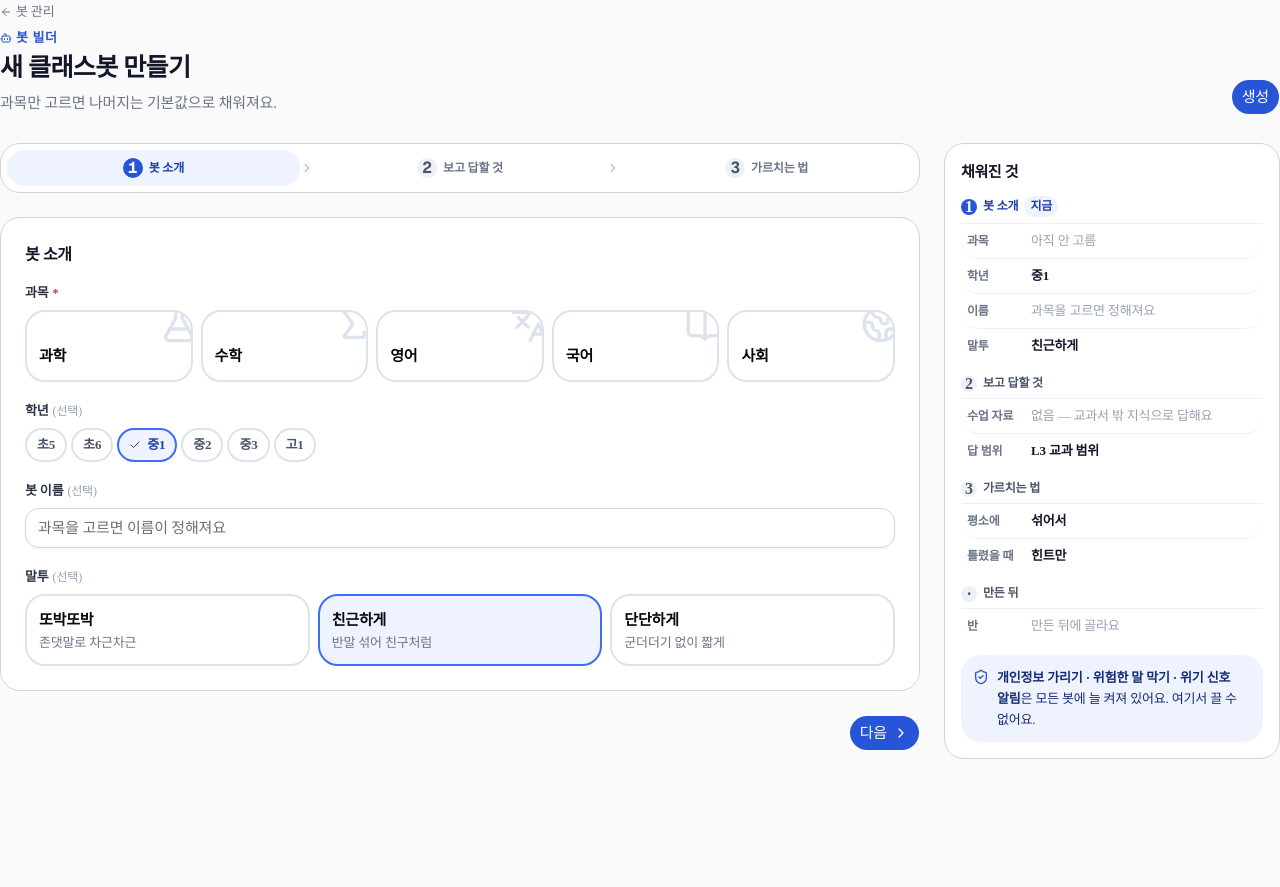
it: 필수를 안 채우면 다음 마당으로 못 간다 › 막힌 뒤 그 항목을 채우면 오류가 사라지고 넘어간다
Click the button "다음". click: (884, 733)
box: [849, 715, 920, 751]
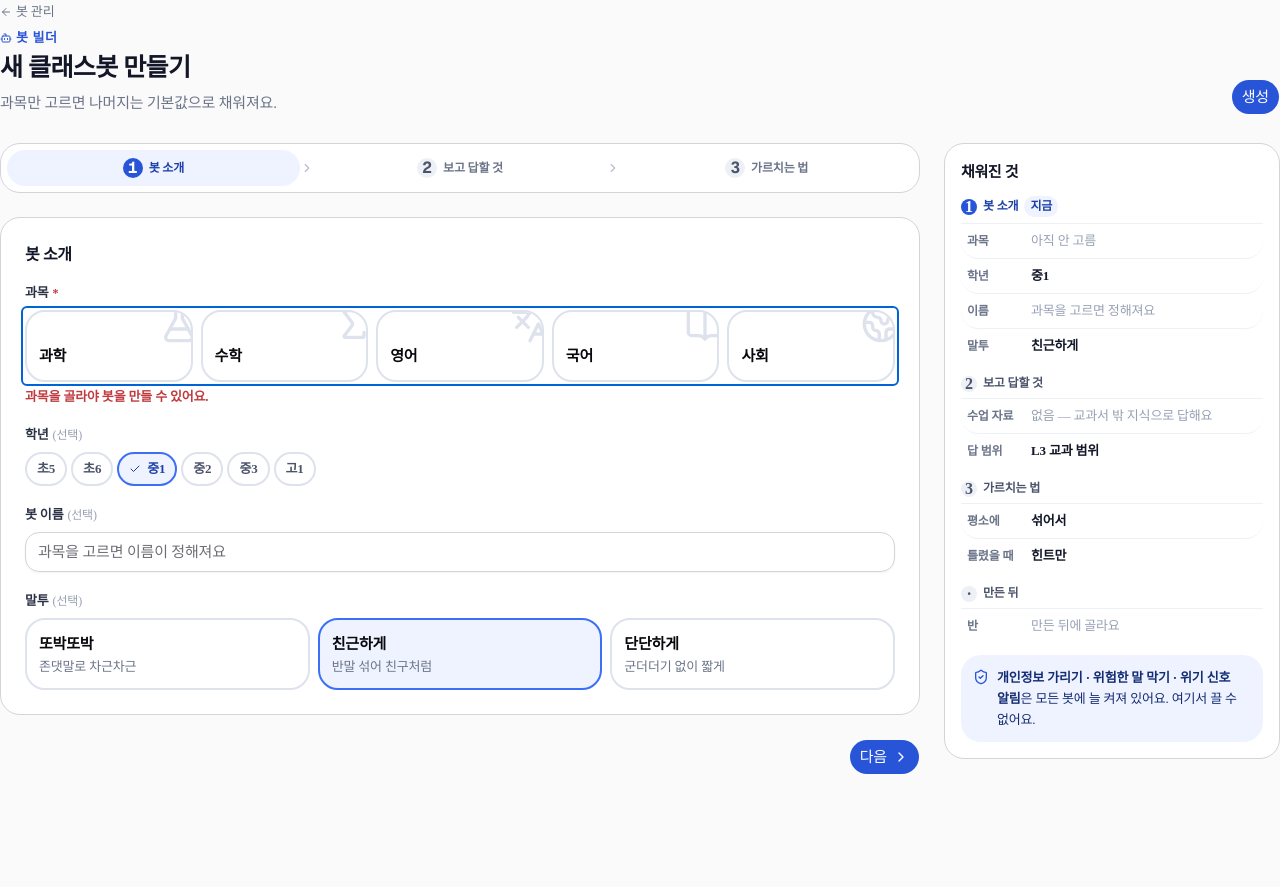
Expected: the message "과목을 골라야 봇을 만들 수 있어요." is shown, [25, 389, 208, 404]
Click the radio button labelled "과학". click: (109, 346)
box: [25, 310, 193, 382]
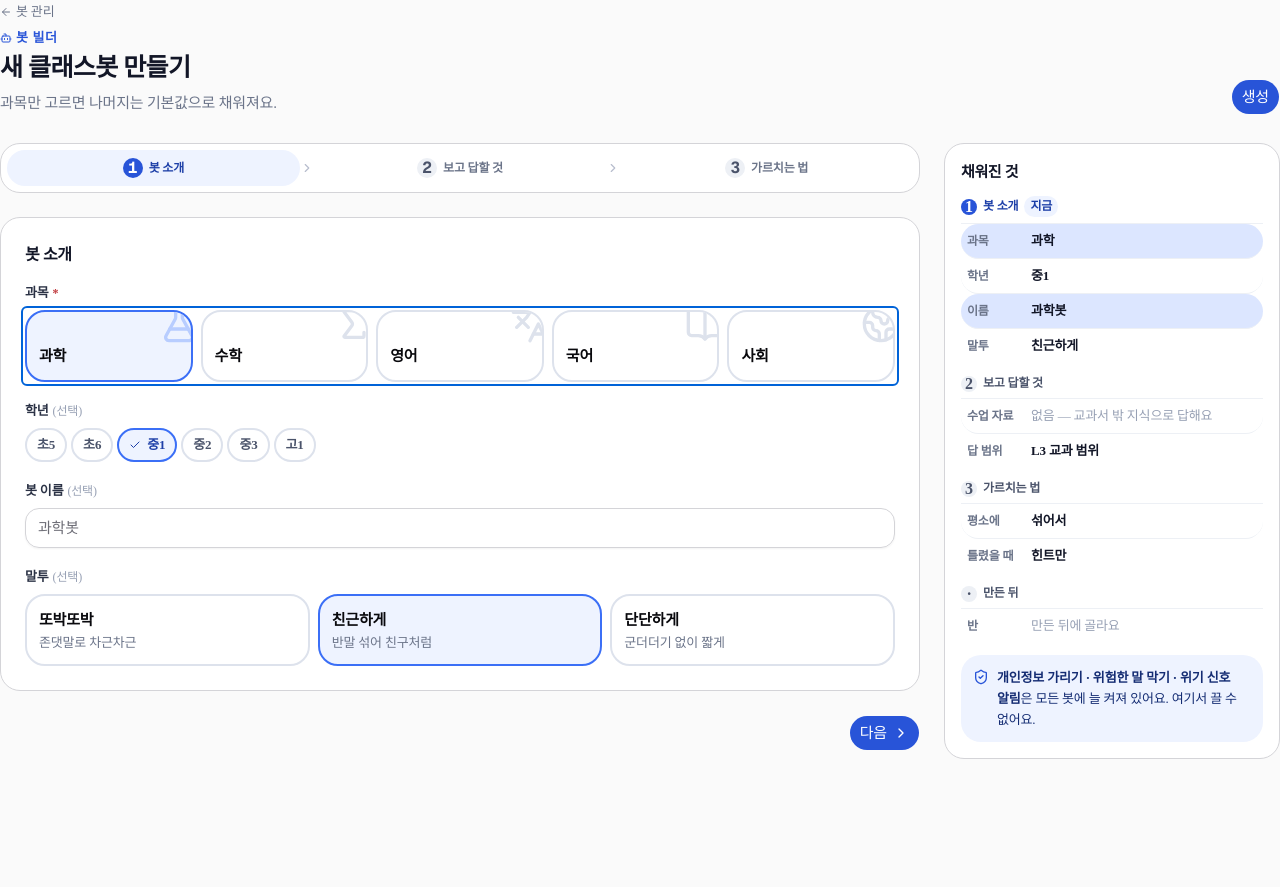
Expected: the message "과목을 골라야 봇을 만들 수 있어요." is gone
Click the button "다음". click: (884, 733)
box: [849, 715, 920, 751]
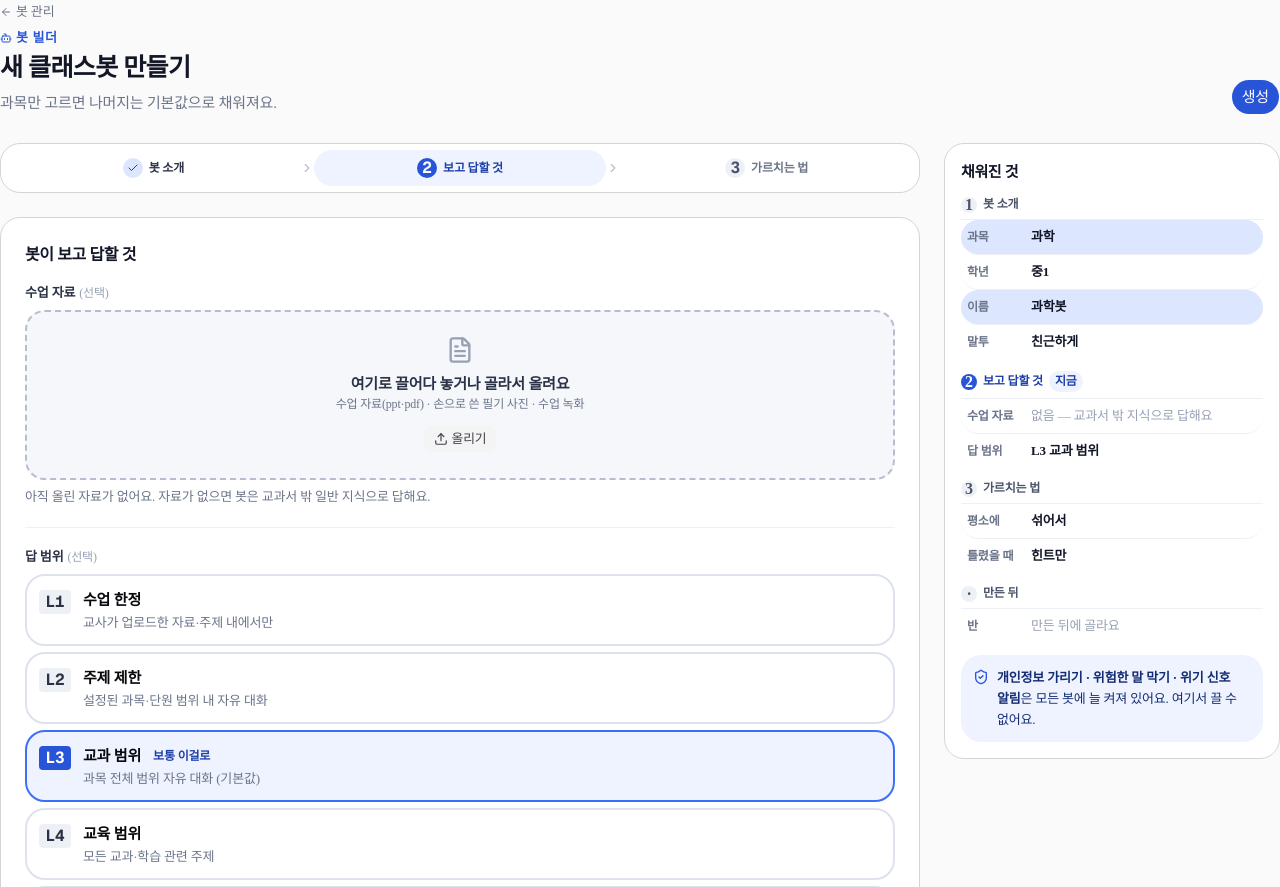
Expected: the heading "봇이 보고 답할 것" is shown, [25, 246, 136, 263]
